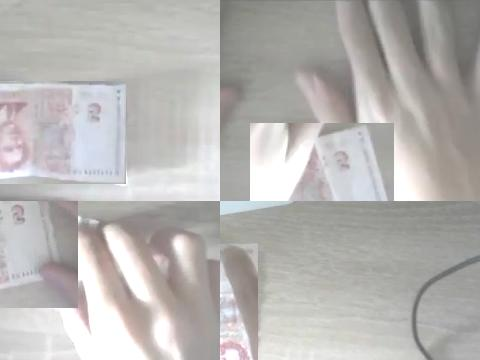5leva: (0, 81, 126, 182), (289, 123, 390, 201)
